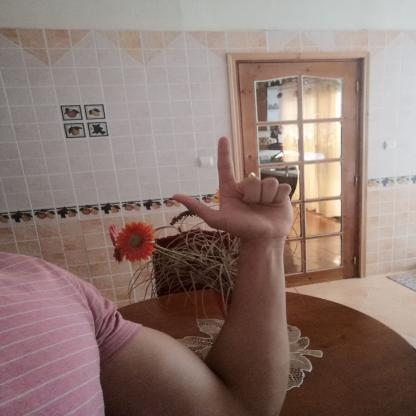LAAM: (160, 128, 302, 248)
